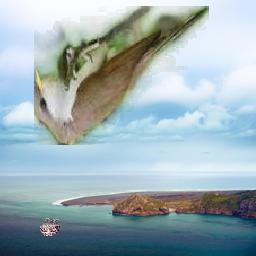Cuckoo: (35, 7, 210, 146)
Sparrow: (40, 218, 61, 236)
